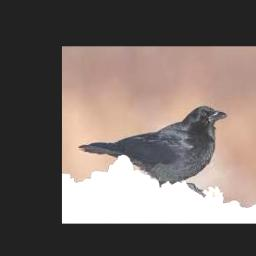Crow: (79, 106, 228, 200)
